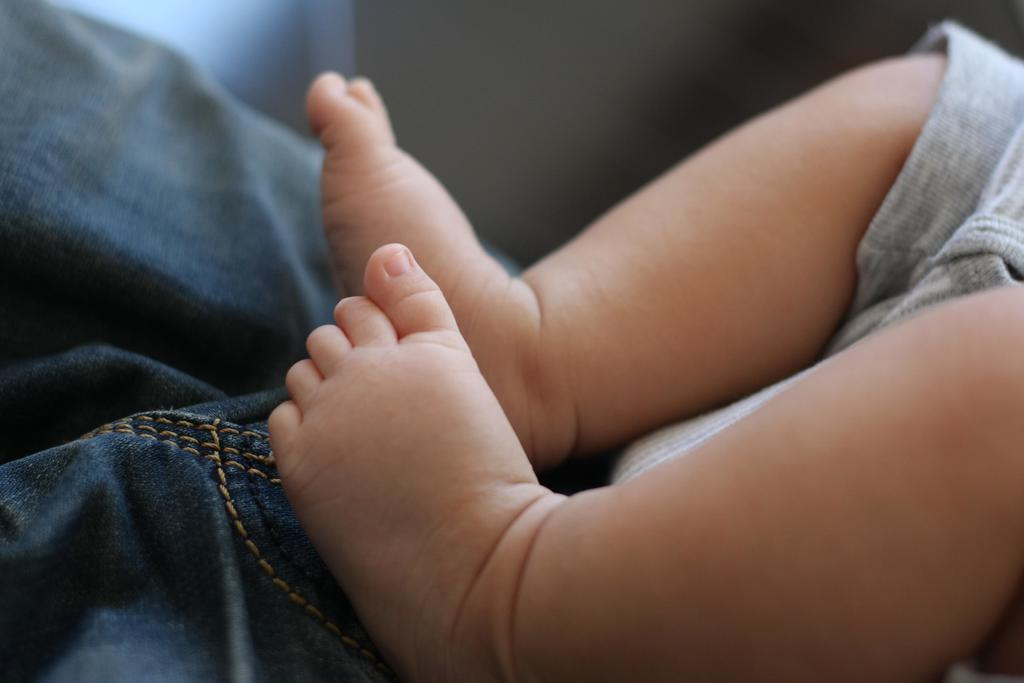Person: (267, 19, 1024, 682)
